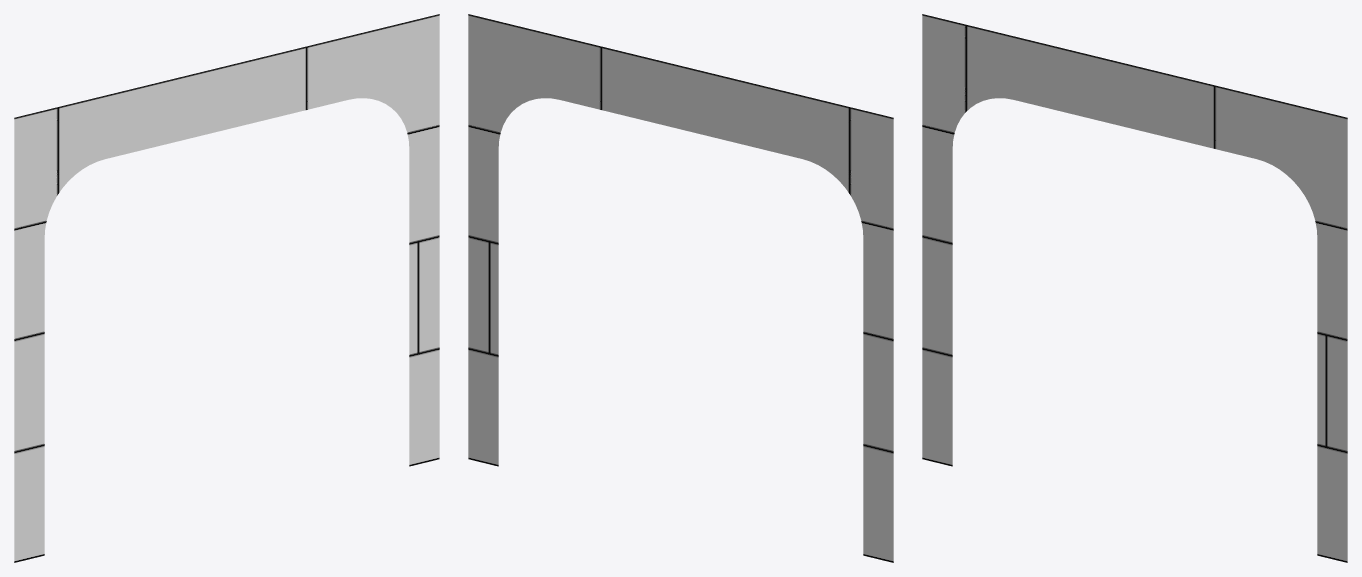
Rendered from Wall350cmFrameRound300cm.FBX.
3 renders of one model, left to right at view 1: azimuth 30°, elevation 25°; view 2: azimuth 150°, elevation 25°; view 3: azimuth 330°, elevation 25°, orthographic.
Visible parts, largest first — view 1: Wall350cmFrameRound300cm; view 2: Wall350cmFrameRound300cm; view 3: Wall350cmFrameRound300cm.
Part boxes in pixels (bbox=[...]): Wall350cmFrameRound300cm: bbox=[14, 14, 439, 562]; Wall350cmFrameRound300cm: bbox=[468, 14, 893, 562]; Wall350cmFrameRound300cm: bbox=[922, 14, 1347, 562].
Bounding box in the file's own units: 350 × 350 × 4.62e-05.
